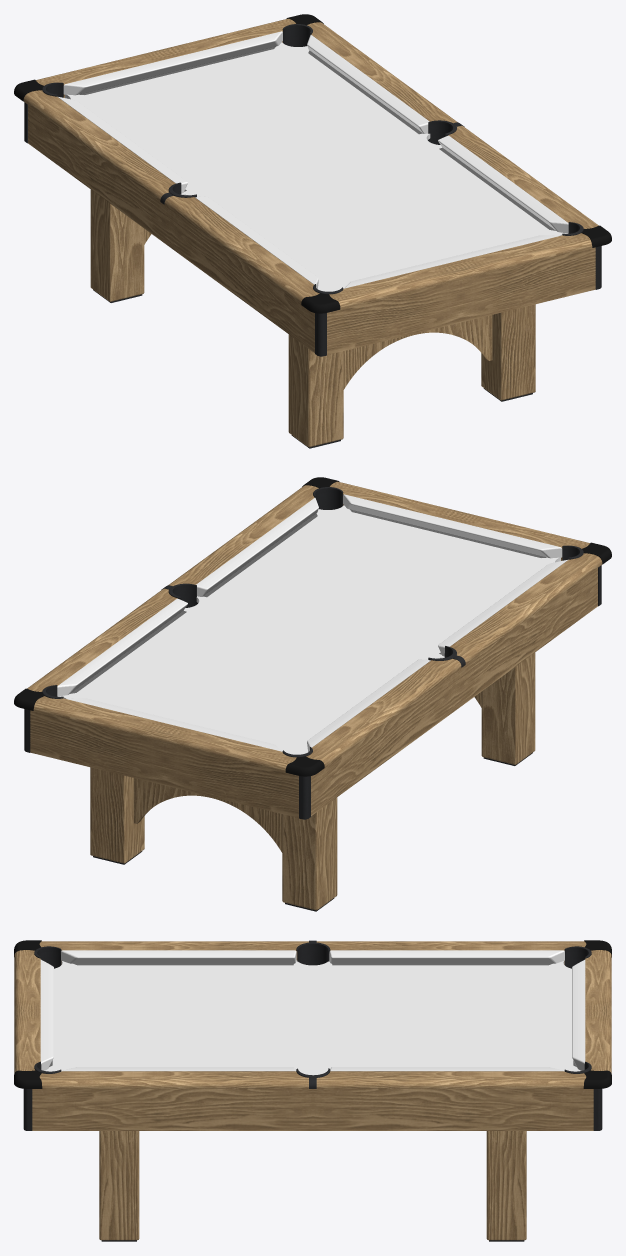
Rendered from showood-4k.glb.
3 renders of one model, top to bottom at view 1: azimuth 30°, elevation 25°; view 2: azimuth 150°, elevation 25°; view 3: azimuth 270°, elevation 25°, orthographic. The views are drawn at different scales.
Visible parts, largest first — view 1: slate, frame, legs, cushion_long, cushion_short, bevel_1, pocket_corner_holder, cushion_long_shadow, bevel_3, pocket_side_holder; view 2: slate, frame, legs, cushion_long, cushion_short, bevel_1, pocket_corner_holder, cushion_long_shadow, bevel_3, pocket_side_holder; view 3: slate, frame, legs, cushion_long, cushion_short, bevel_1, cushion_long_shadow, pocket_corner_holder, bevel_3, pocket_side_holder.
Boxes of the visible parts, <box> form: slate: <box>65,42,567,291</box>; frame: <box>23,18,598,354</box>; legs: <box>90,189,535,448</box>; cushion_long: <box>57,35,568,288</box>; cushion_short: <box>63,31,559,288</box>; bevel_1: <box>14,14,611,313</box>; pocket_corner_holder: <box>42,24,583,294</box>; cushion_long_shadow: <box>184,50,555,230</box>; bevel_3: <box>24,102,601,356</box>; pocket_side_holder: <box>168,120,456,197</box>; slate: <box>58,505,560,754</box>; frame: <box>27,481,602,817</box>; legs: <box>90,652,535,911</box>; cushion_long: <box>57,498,568,751</box>; cushion_short: <box>66,494,562,751</box>; bevel_1: <box>14,477,611,776</box>; pocket_corner_holder: <box>42,487,583,757</box>; cushion_long_shadow: <box>70,513,441,693</box>; bevel_3: <box>24,565,601,819</box>; pocket_side_holder: <box>168,583,456,660</box>; slate: <box>45,960,580,1075</box>; frame: <box>14,941,611,1130</box>; legs: <box>99,1131,526,1241</box>; cushion_long: <box>61,950,564,1071</box>; cushion_short: <box>40,959,585,1070</box>; bevel_1: <box>14,940,611,1088</box>; cushion_long_shadow: <box>74,963,551,965</box>; pocket_corner_holder: <box>34,946,591,1073</box>; bevel_3: <box>23,1089,602,1130</box>; pocket_side_holder: <box>296,942,330,1077</box>.
Size of the model in its own units: 1.3 by 0.7556 by 2.29.
6 materials, 3 textured.
